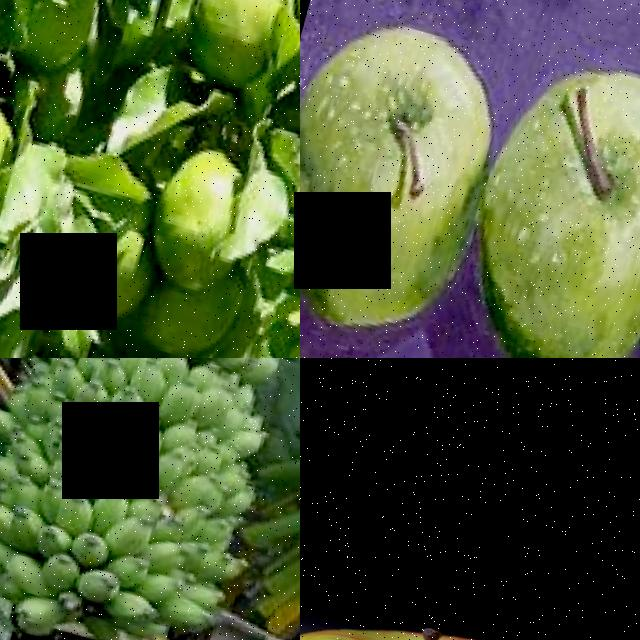apple: (300, 2, 521, 355), (441, 29, 640, 358), (300, 554, 640, 640)
banana: (0, 358, 300, 640)
